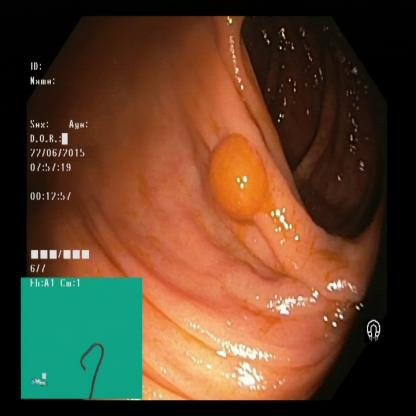Labels: (27, 62, 104, 277), (20, 276, 143, 402), (364, 312, 391, 344)
Polyps: (202, 125, 278, 231)
